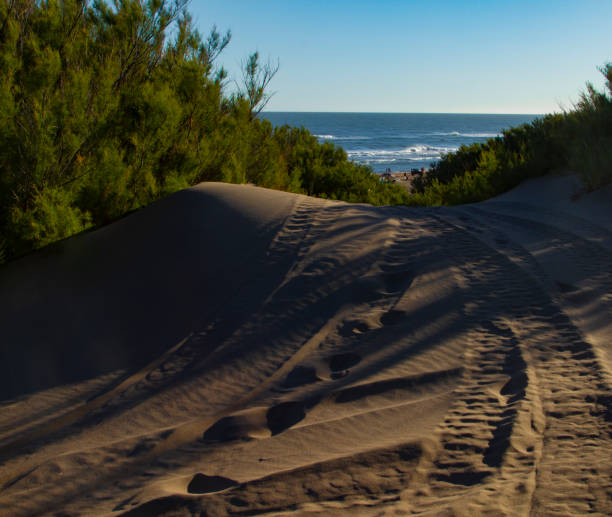vehicle_track: (2, 203, 611, 515), (20, 203, 391, 509), (386, 210, 609, 514), (59, 196, 320, 432), (203, 217, 460, 444), (381, 213, 536, 510), (203, 205, 394, 442), (384, 218, 535, 498), (123, 196, 320, 410), (405, 210, 539, 514), (142, 196, 320, 392), (70, 286, 248, 474), (500, 238, 611, 514), (231, 225, 393, 410), (200, 234, 379, 394), (269, 219, 420, 398), (467, 206, 611, 386), (513, 294, 611, 515), (123, 444, 420, 516), (431, 321, 527, 485), (471, 206, 611, 314), (440, 206, 556, 291), (0, 372, 124, 447), (480, 200, 611, 249)
